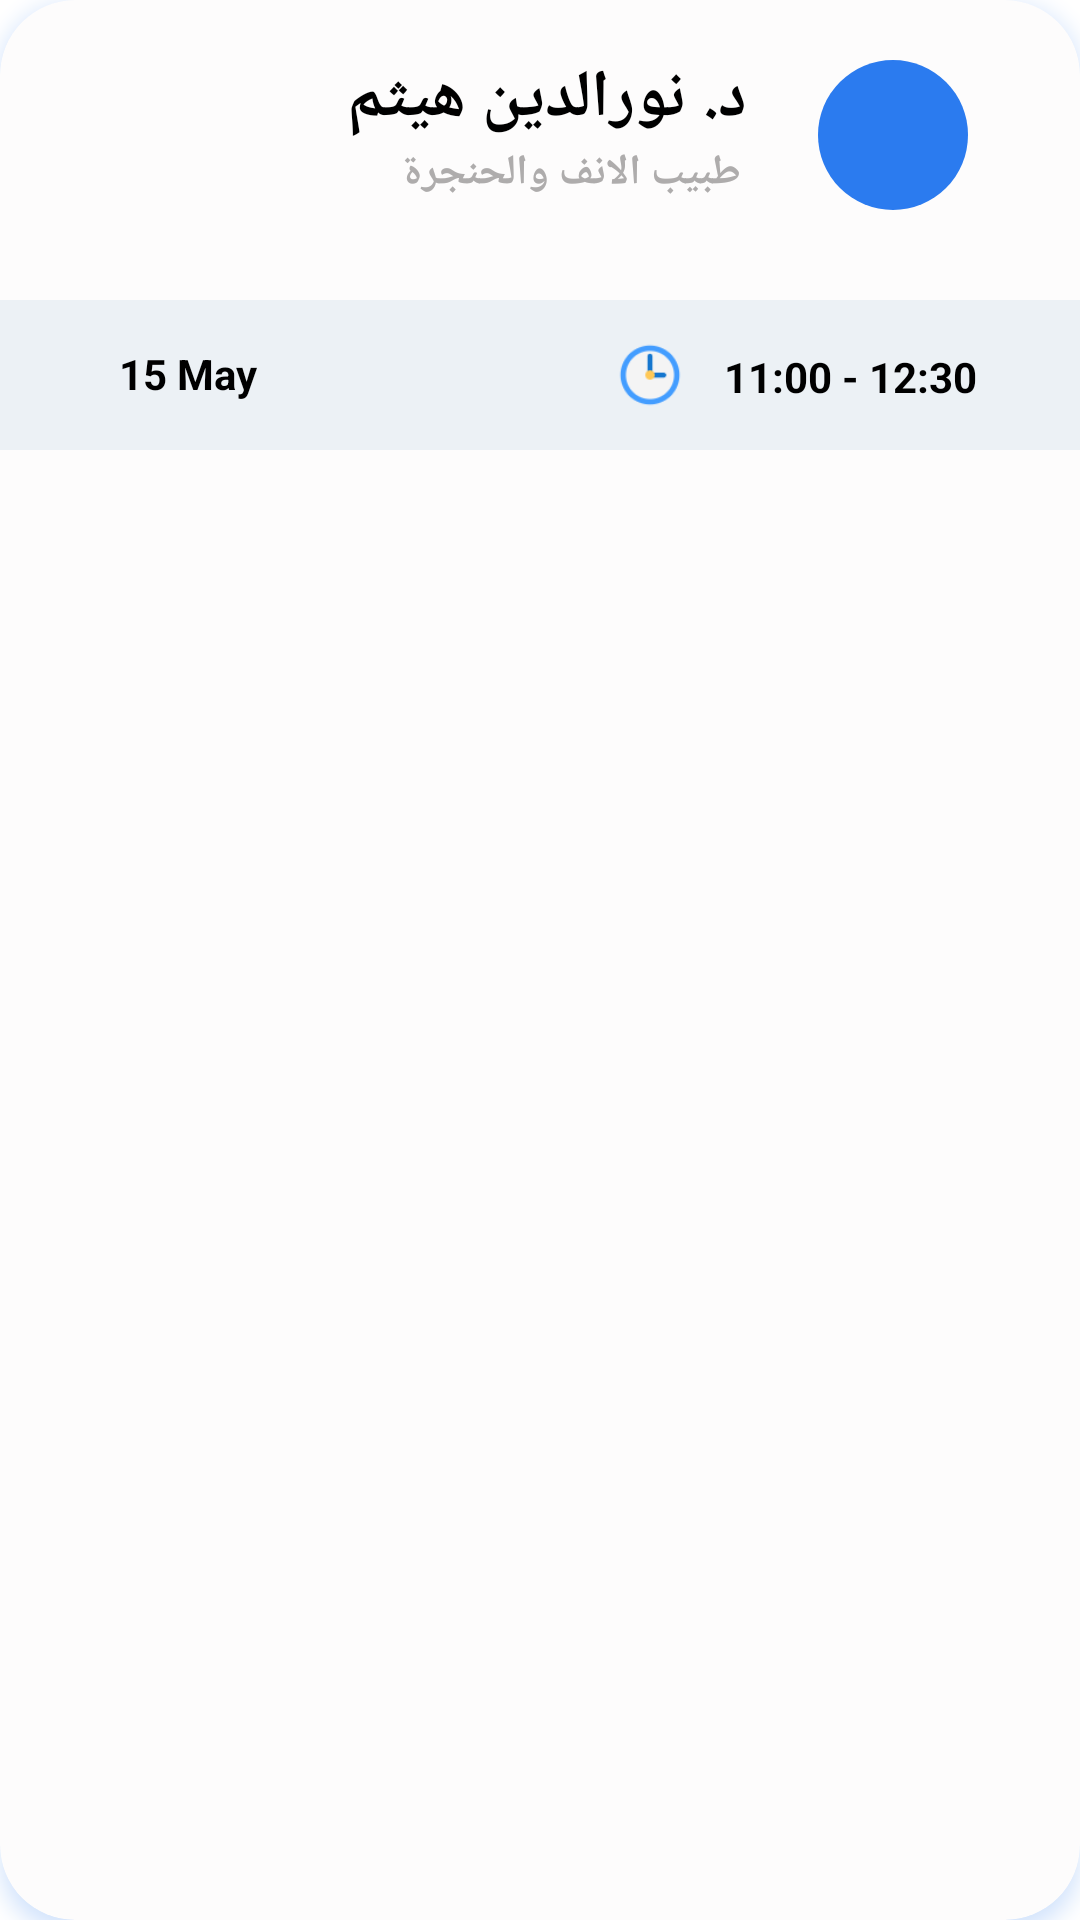

Where to tap for icons on this 1080px x 1920px app screen, as (x,y):
clock: (650,375)
